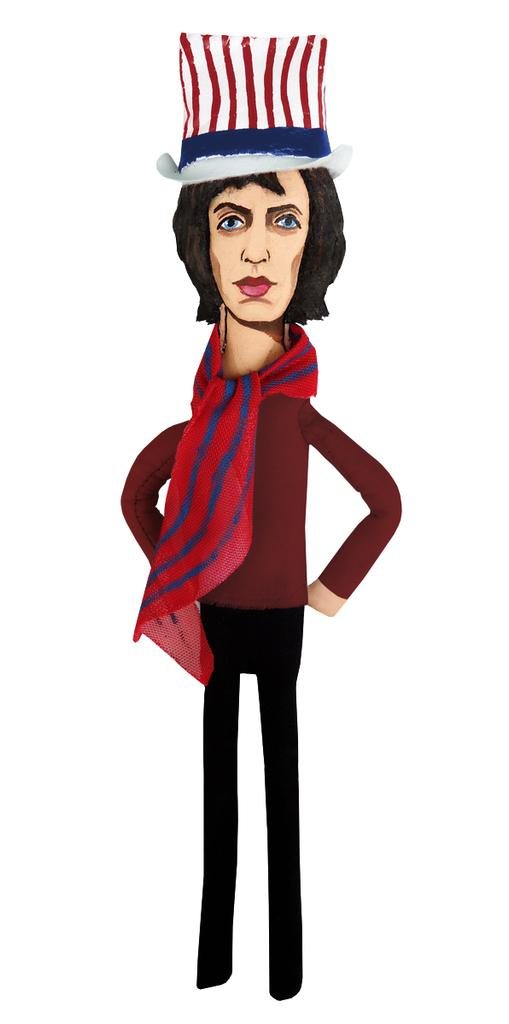Hat: (154, 31, 351, 178)
